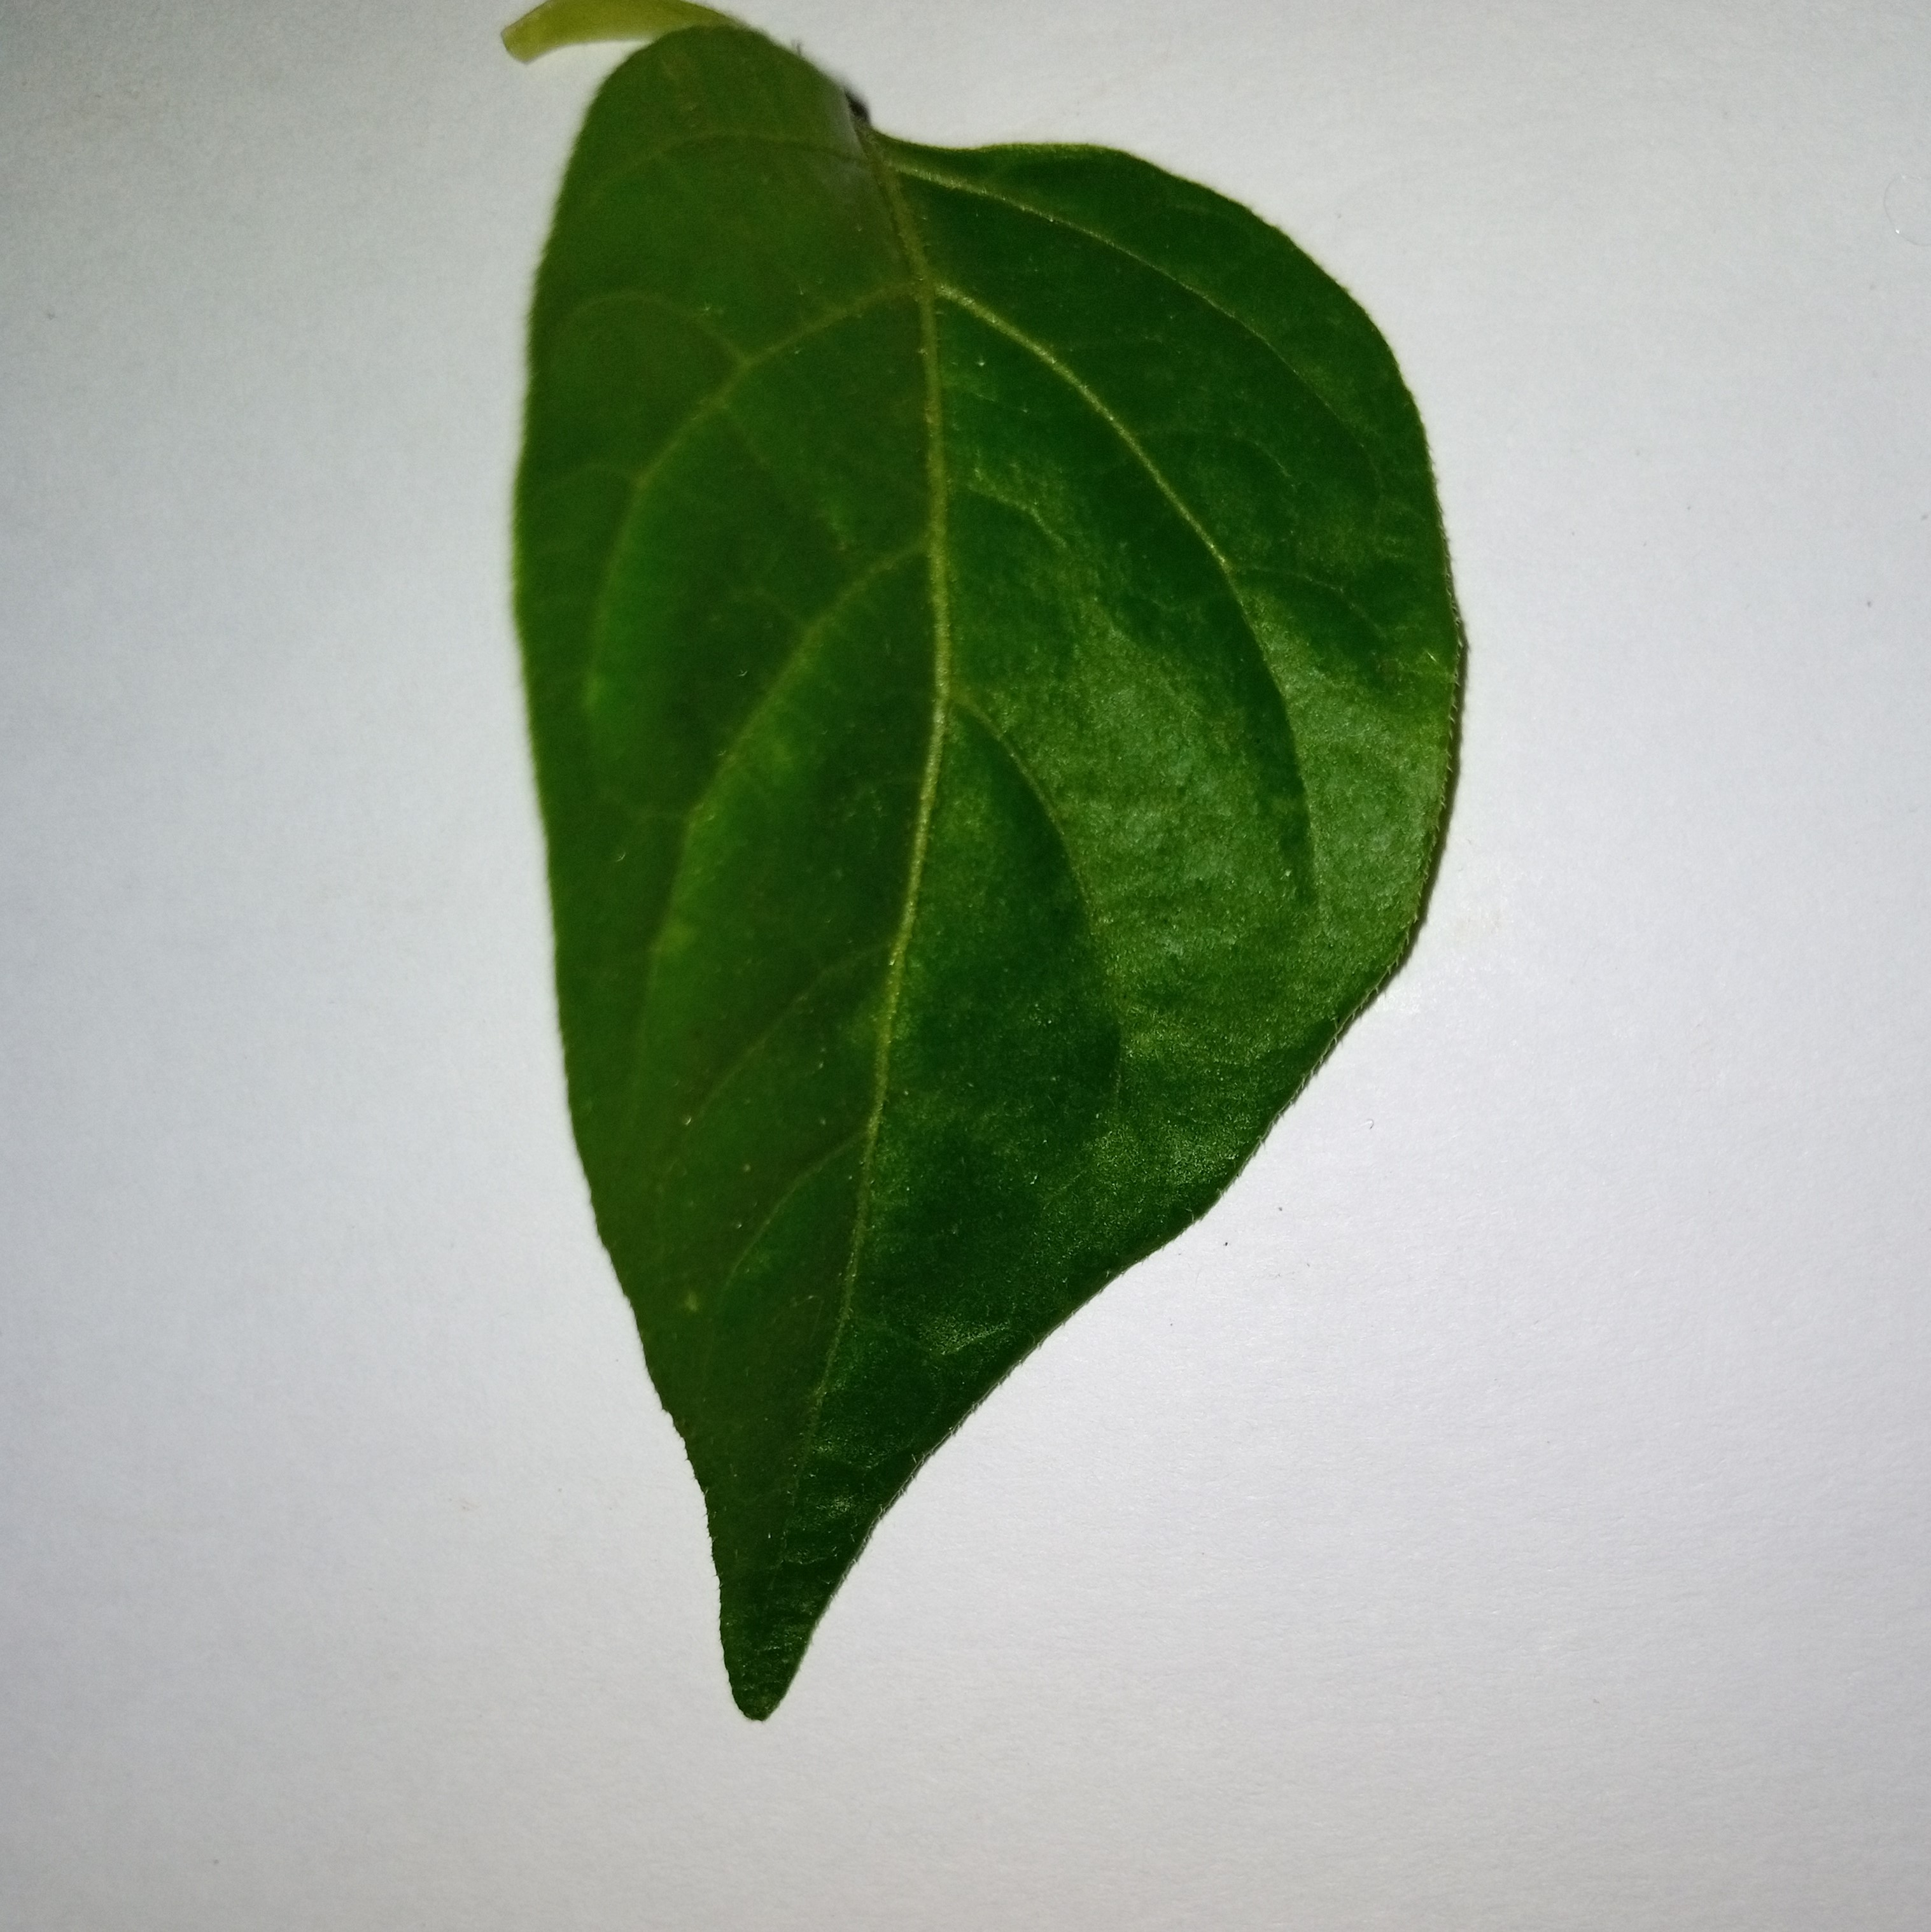Leaf: (354, 30, 1811, 1766)
